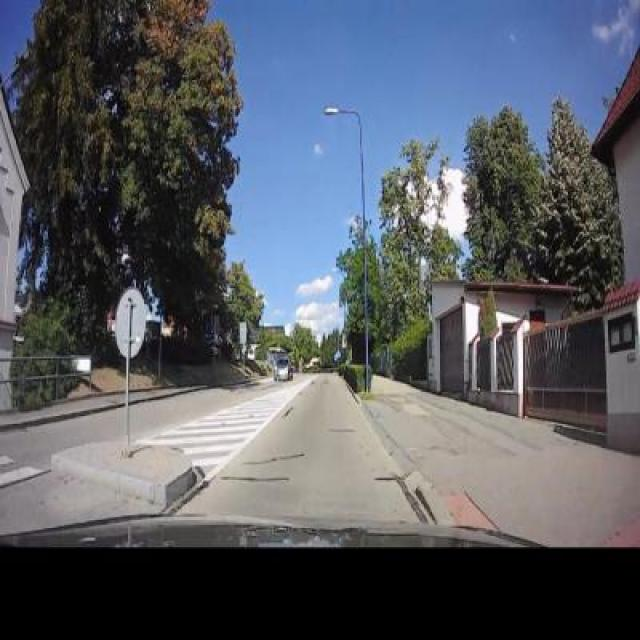clear-road: (184, 372, 420, 524), (130, 386, 272, 440), (0, 408, 124, 466)
